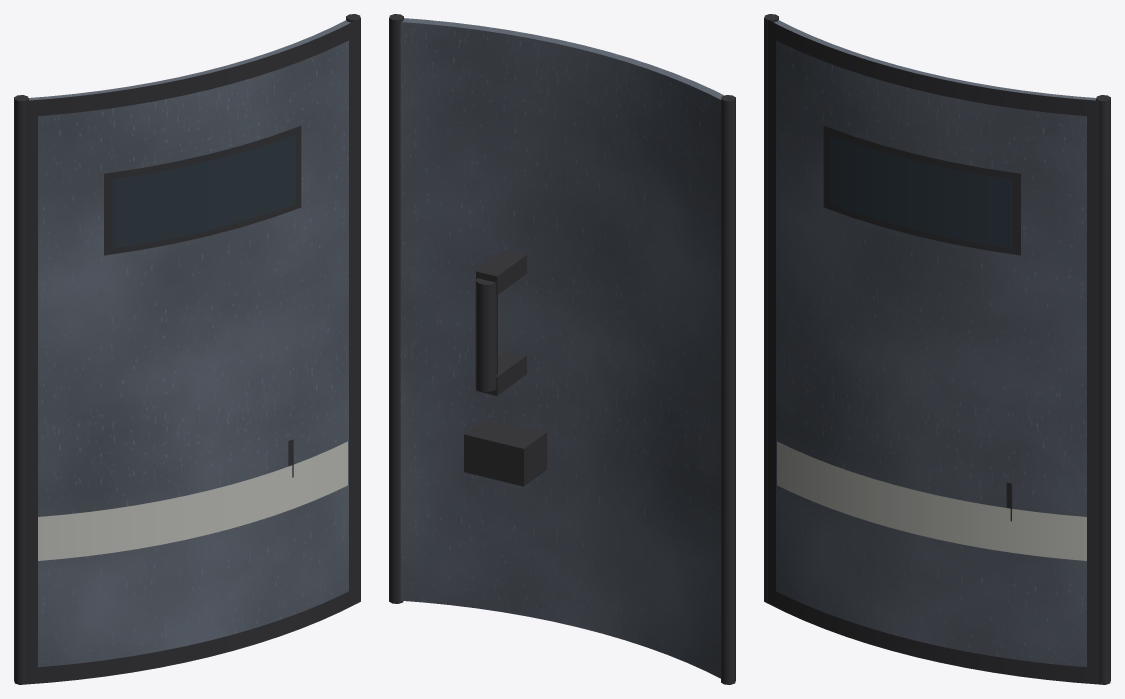
Rendered from shield.glb.
3 renders of one model, left to right at view 1: azimuth 30°, elevation 25°; view 2: azimuth 150°, elevation 25°; view 3: azimuth 330°, elevation 25°, orthographic.
Visible parts, largest first — view 1: shield; view 2: shield; view 3: shield.
Boxes of the visible parts, box(x1,y1,x2,y2) form: shield: box(14, 14, 360, 684); shield: box(389, 14, 735, 684); shield: box(764, 14, 1110, 684).
Bounding box in the file's own units: 0.5742 × 0.928 × 0.1232.
Materials: 4 (1 with a texture image).
